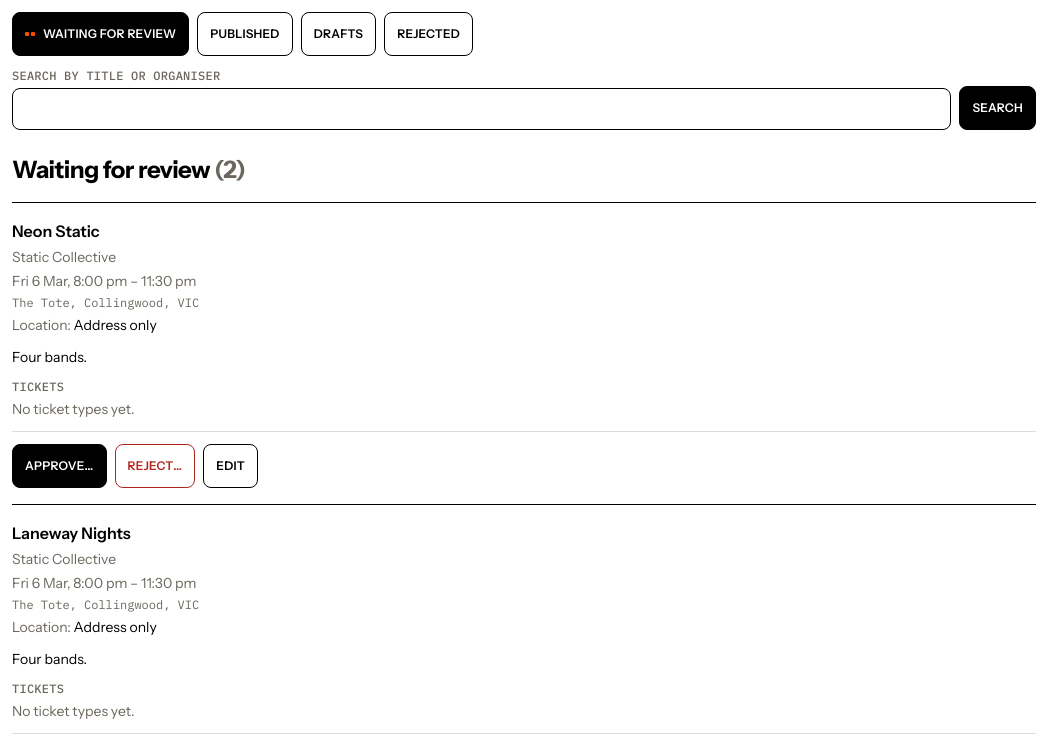
Test: EventQueue › approving a paid event whose organiser has no payouts says why on the item, closes the question, and it stays
The image size is (1048, 734).
Click the button with aria-label "Approve Neon Static…".
click(59, 466)  # box [12,444,107,488]
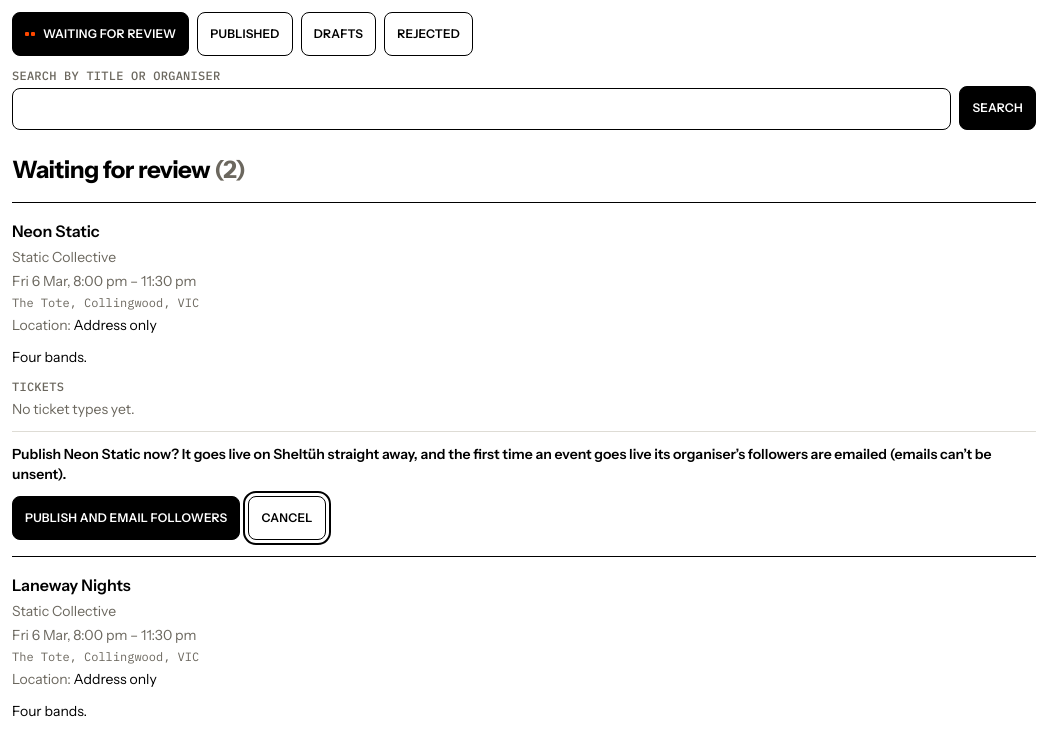
Click the button "Publish and email followers".
click(126, 518)  # box [12,496,240,540]
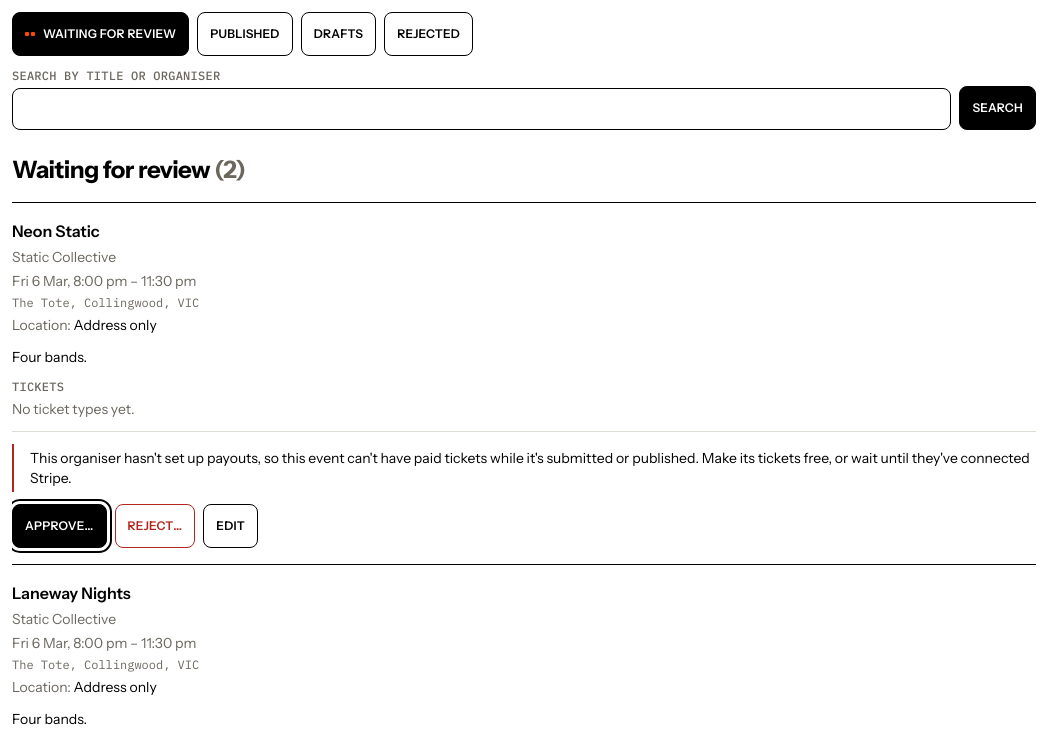
expect the heading "Neon Static" is shown: met, box [12,221,100,241]
expect the button "Publish and email followers" is gone: met
expect the message shows "This organiser hasn't set up payouts, so this event can't have paid tickets while it's submitted or published. Make its tickets free, or wait until they've conn": met, box [30,449,1030,487]
